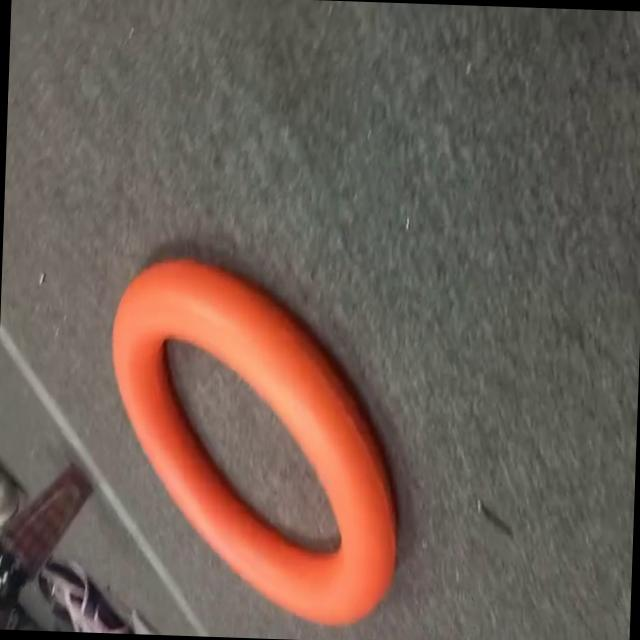note: (99, 251, 412, 640)
